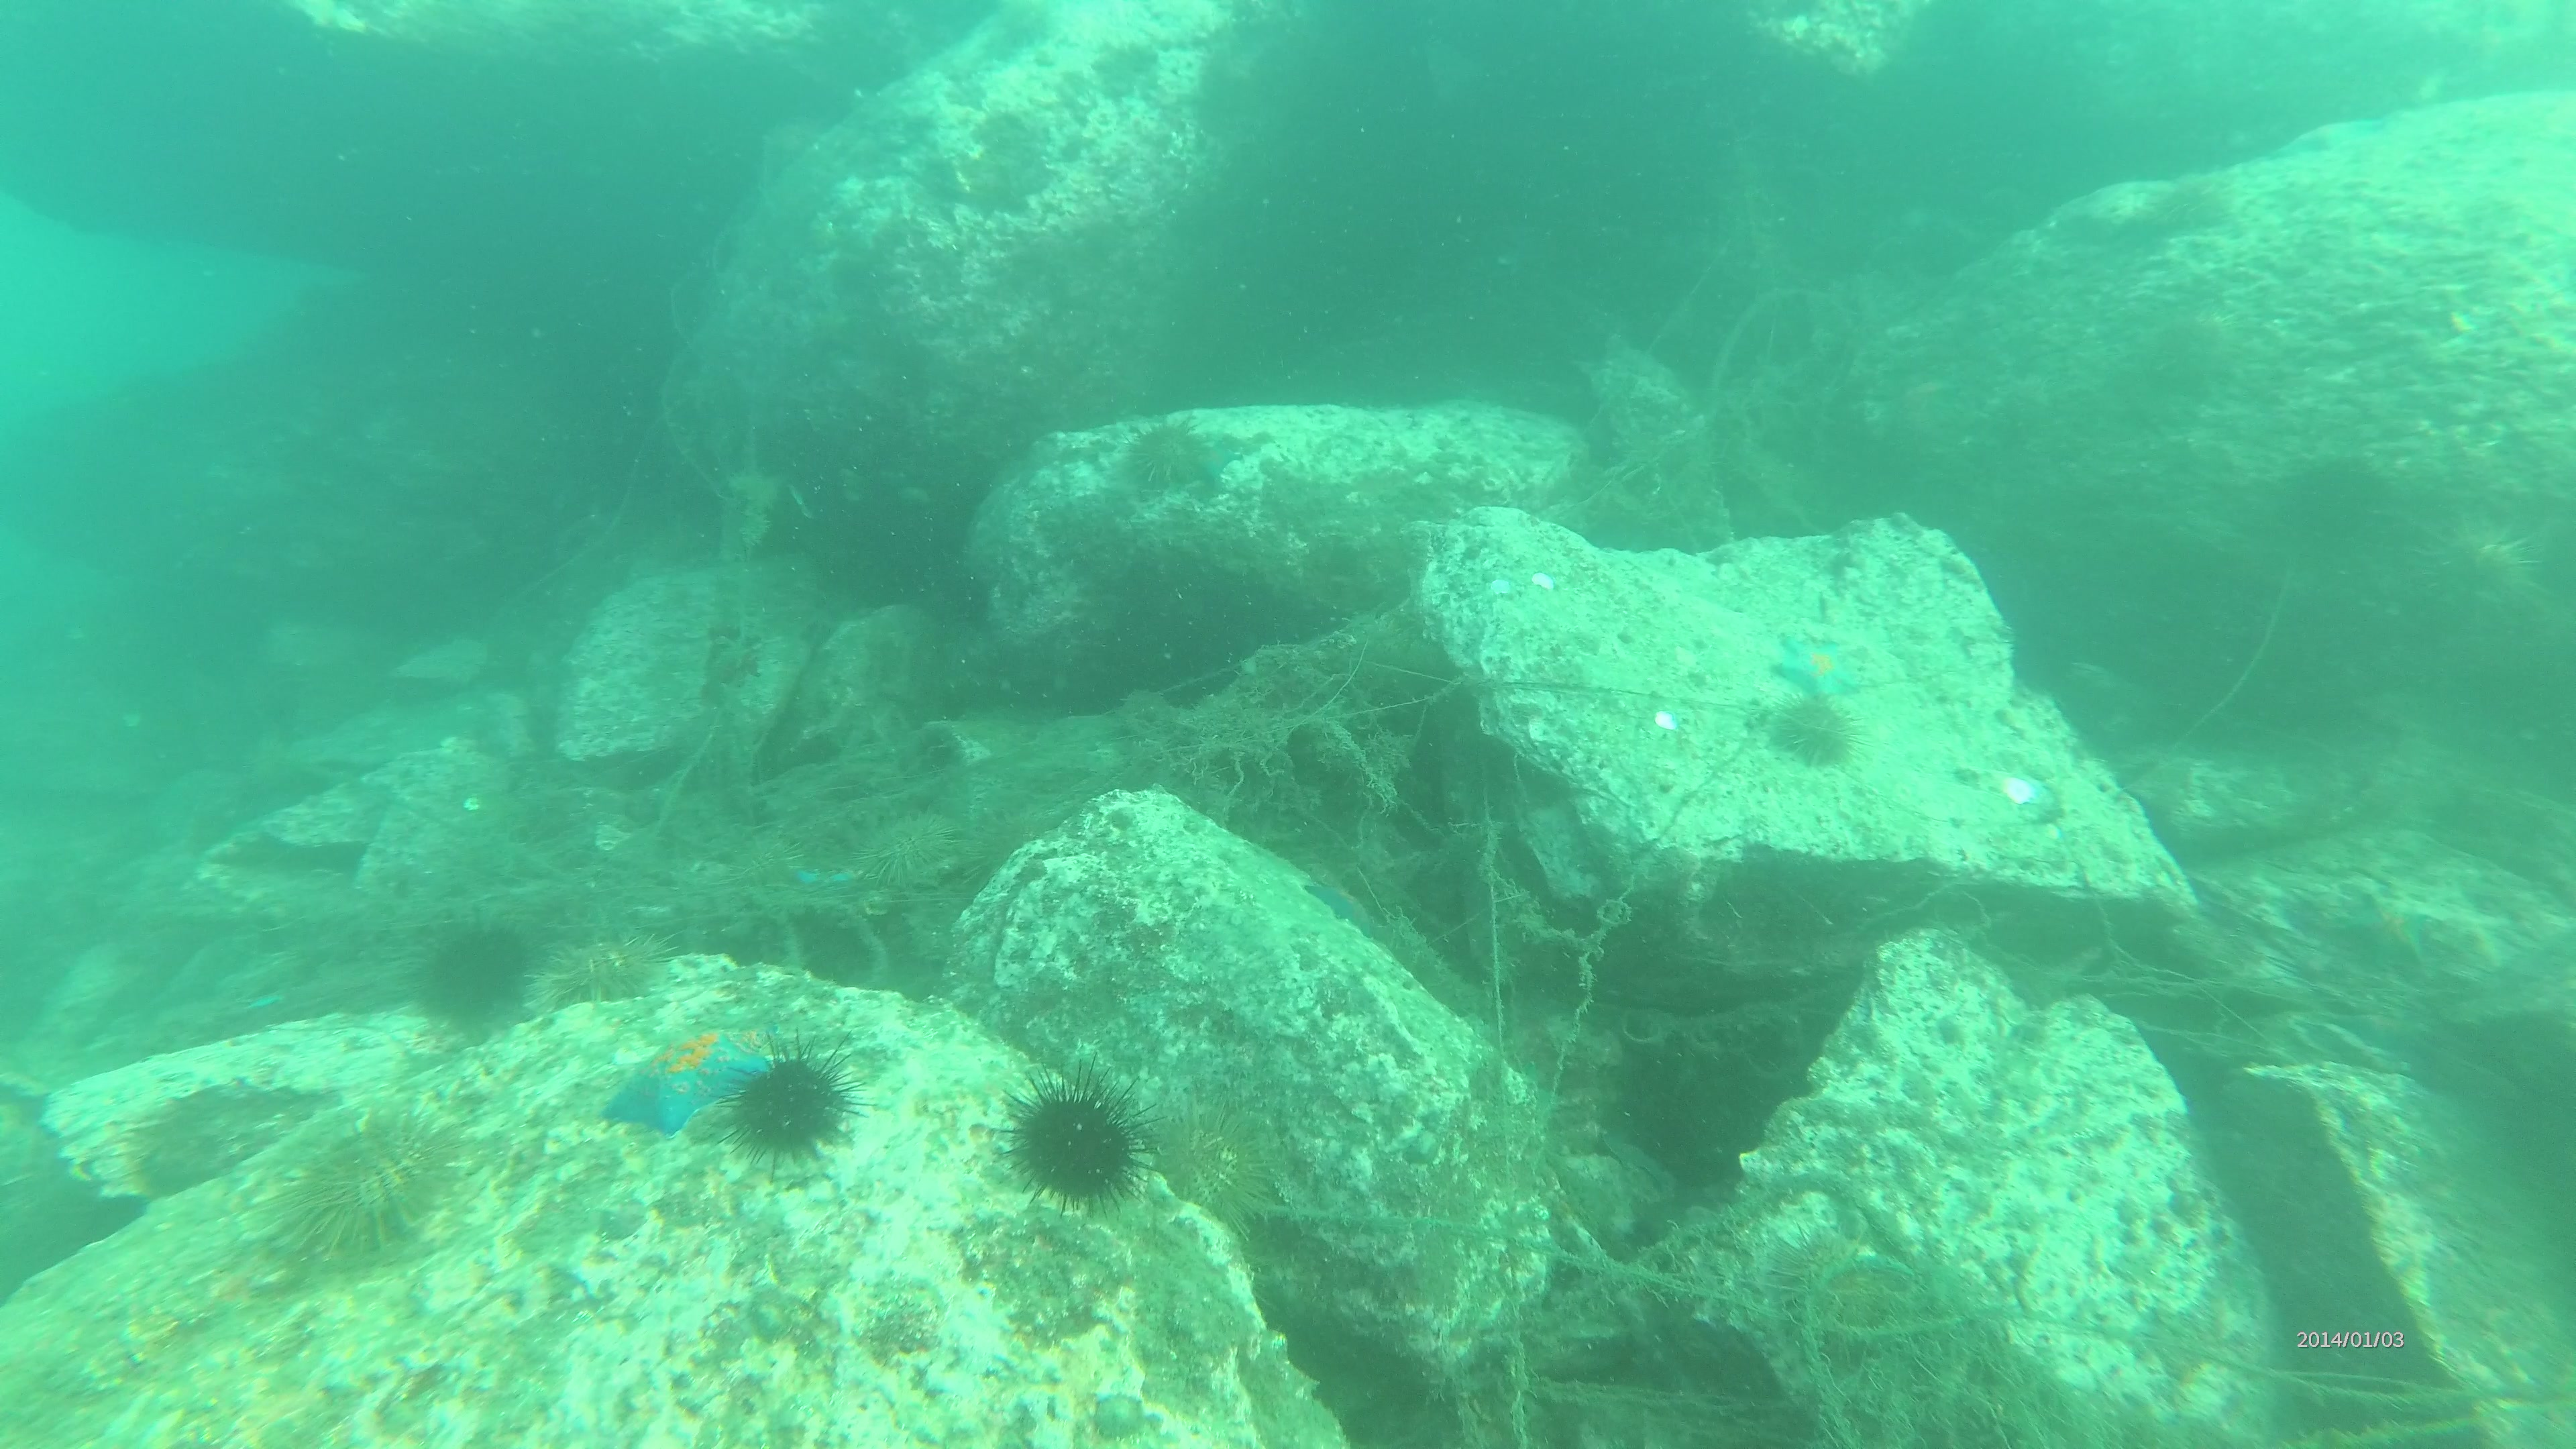echinus: (274, 1125, 474, 1277), (1008, 1083, 1143, 1203), (740, 1044, 853, 1161), (421, 925, 533, 1019), (552, 931, 660, 1010), (1125, 416, 1219, 497), (1778, 697, 1859, 778)
starfish: (614, 1033, 761, 1139), (1773, 626, 1859, 706)
